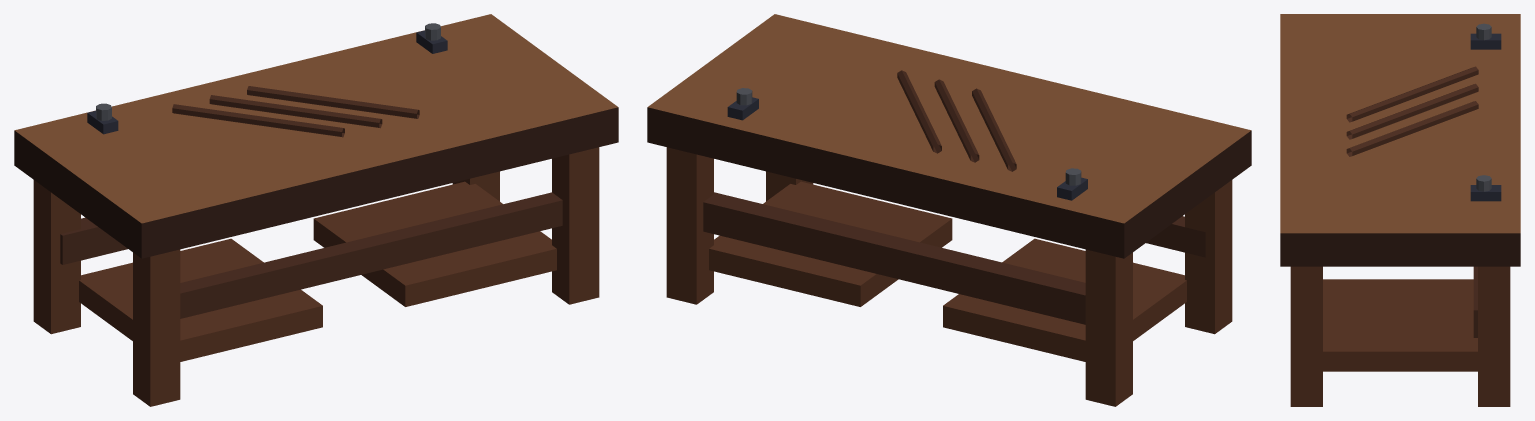
Rendered from workbench.obj.
3 renders of one model, left to right at view 1: azimuth 30°, elevation 25°; view 2: azimuth 150°, elevation 25°; view 3: azimuth 270°, elevation 25°, orthographic. The views are drawn at different scales.
Visible parts, largest first — view 1: workbench; view 2: workbench; view 3: workbench.
Part boxes in pixels (x1,y1,x2,y2): workbench: [14, 14, 618, 406]; workbench: [647, 14, 1251, 406]; workbench: [1280, 14, 1520, 406].
Bounding box in the file's own units: 2.55 × 1.08 × 1.18.
